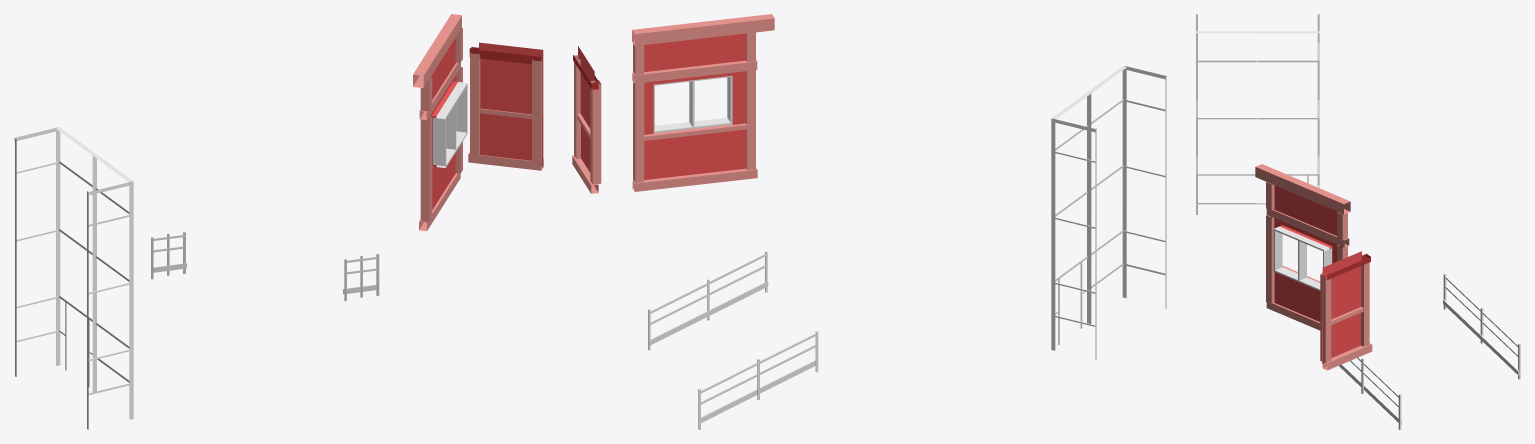
The model's file is SM_H_Building_Tide_Jail_Monitor_01f_ATLAS.fbx.
The picture shows the model from 3 angles, left to right: view 1: azimuth 30°, elevation 25°; view 2: azimuth 150°, elevation 25°; view 3: azimuth 270°, elevation 25°; orthographic projection. The views are drawn at different scales.
Parts seen in each view (by area): view 1: SM_H_Building_Tide_Jail_Monitor_01f_ATLAS; view 2: SM_H_Building_Tide_Jail_Monitor_01f_ATLAS; view 3: SM_H_Building_Tide_Jail_Monitor_01f_ATLAS.
Boxes of the visible parts, left/top/right/bottom form: SM_H_Building_Tide_Jail_Monitor_01f_ATLAS: left=14, top=14, right=543, bottom=429; SM_H_Building_Tide_Jail_Monitor_01f_ATLAS: left=572, top=14, right=1166, bottom=429; SM_H_Building_Tide_Jail_Monitor_01f_ATLAS: left=1195, top=14, right=1520, bottom=429.
Size of the model in its own units: 1990 by 1248 by 1043.
